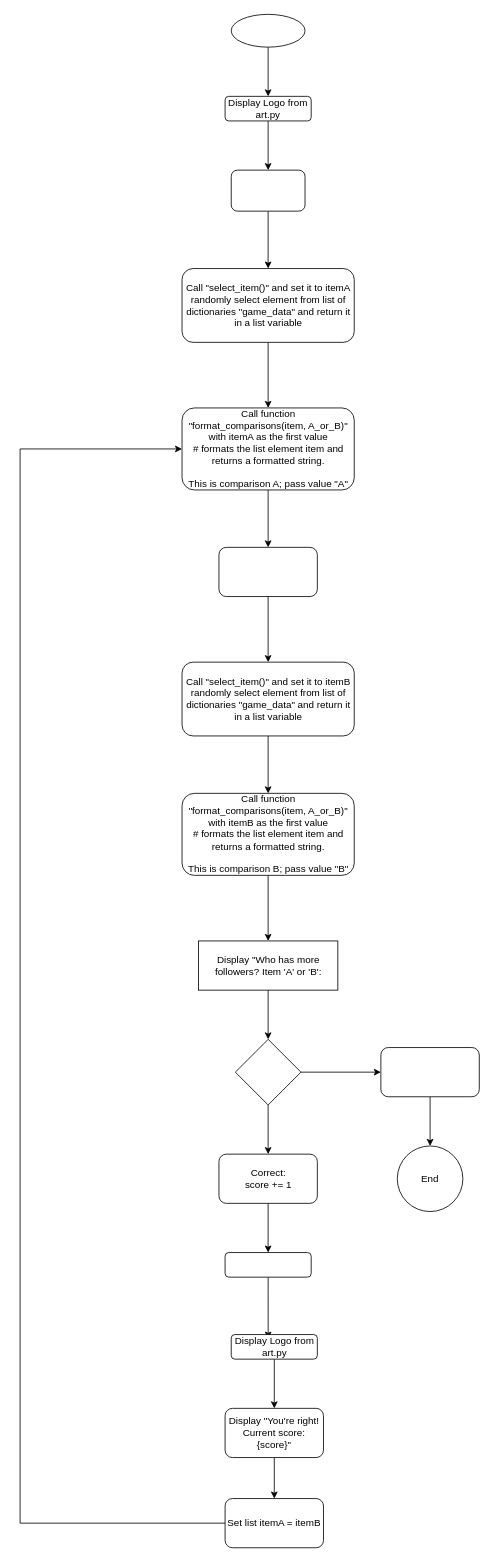
Image size: 494x1562. Some labels were removed from this diagram. Here are the shapes that lost their labels. From the top down, the centre of each, then its label:
[267,30]: Start
[267,190]: Set score = 0
[267,572]: Display "VS" text calligraphy from art.py
[268,1072]: User reply
[429,1072]: Wrong
[267,1264]: Clear screen
